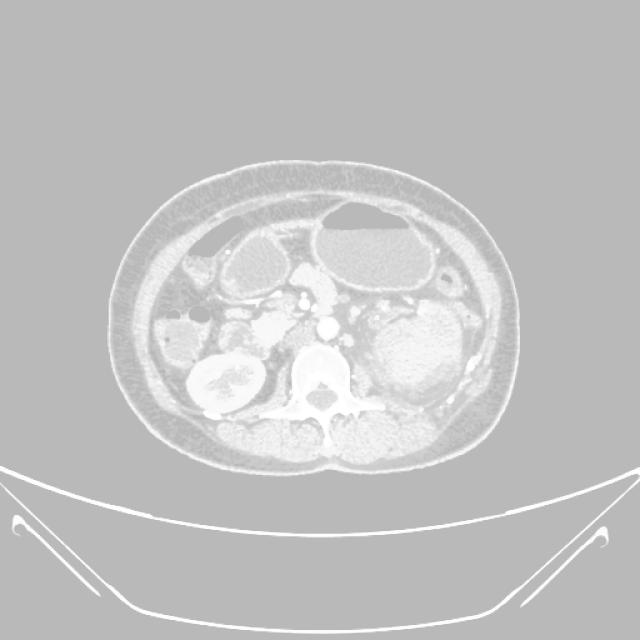TUMOR: (134, 153, 487, 368)
